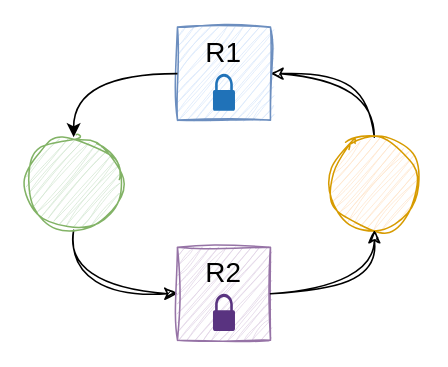
The diagram is 448 pixels wide and 367 high, and some of its shapes have lost their labels. The shapes that lost their labels are listed below. From the top down, each one's centre as x and y in pixels, then its label:
At (73,183): "T1".
At (373,183): "T2".
